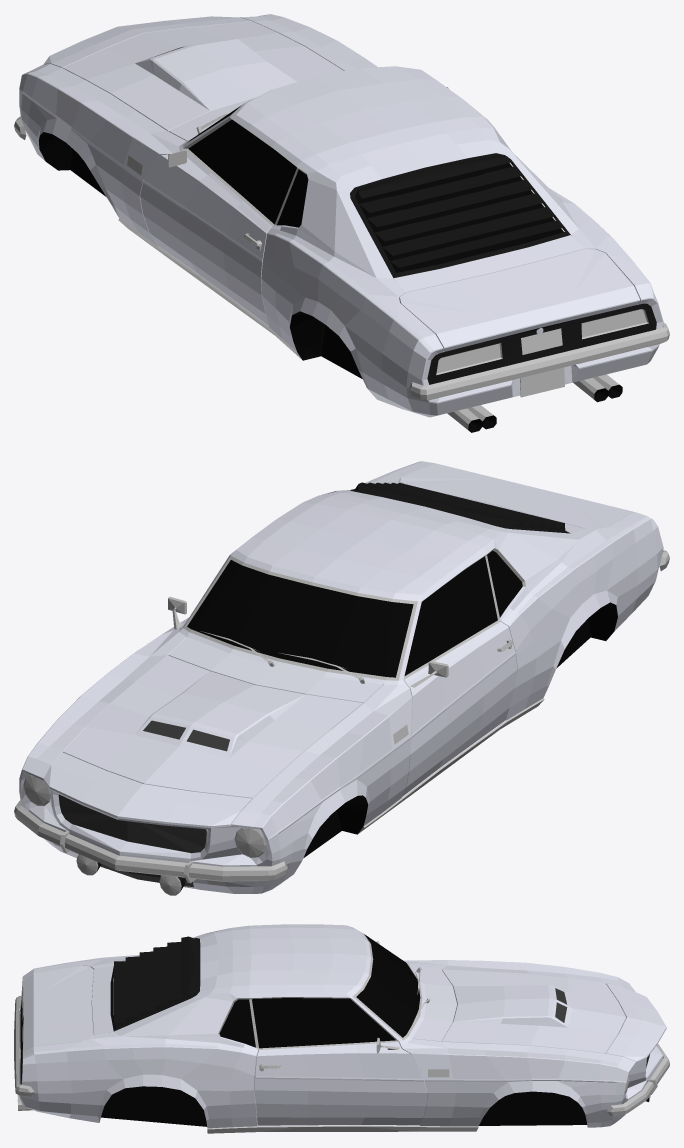
The model's file is GTO_Body.fbx.
3 renders of one model, top to bottom at view 1: azimuth 30°, elevation 25°; view 2: azimuth 150°, elevation 25°; view 3: azimuth 270°, elevation 25°, orthographic. The views are drawn at different scales.
Parts seen in each view (by area): view 1: Empty_Mesh_1, Empty_Mesh_3, Empty_Mesh, Empty_Mesh_2, Empty_Mesh_4; view 2: Empty_Mesh_1, Empty_Mesh_3, Empty_Mesh_2, Empty_Mesh, Empty_Mesh_4; view 3: Empty_Mesh_1, Empty_Mesh_3, Empty_Mesh, Empty_Mesh_2, Empty_Mesh_4.
Boxes of the visible parts, x1,y1,x2,y2 form: Empty_Mesh_1: (19,14,658,417); Empty_Mesh_3: (135,37,663,403); Empty_Mesh: (14,47,669,432); Empty_Mesh_2: (19,88,563,272); Empty_Mesh_4: (44,17,640,351); Empty_Mesh_1: (19,461,663,893); Empty_Mesh_3: (19,490,578,865); Empty_Mesh_2: (187,551,522,840); Empty_Mesh: (14,482,669,895); Empty_Mesh_4: (43,463,634,858); Empty_Mesh_1: (19,955,666,1128); Empty_Mesh_3: (18,924,662,1125); Empty_Mesh: (14,933,669,1133); Empty_Mesh_2: (113,934,626,1083); Empty_Mesh_4: (23,960,662,1126).
Size of the model in its own units: 181 by 112 by 485.
